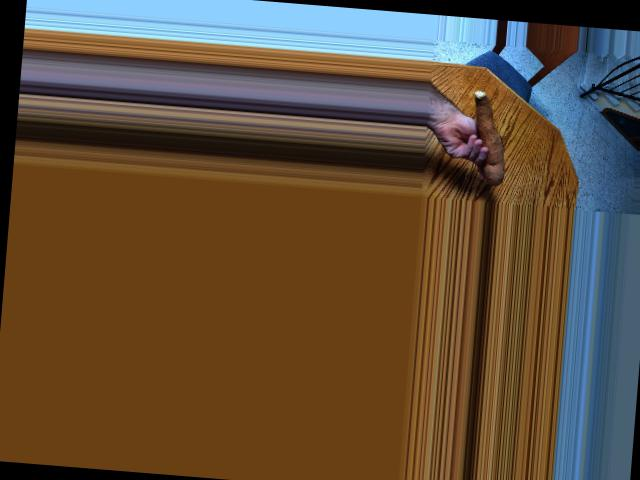sweet_potato: (465, 87, 516, 182)
